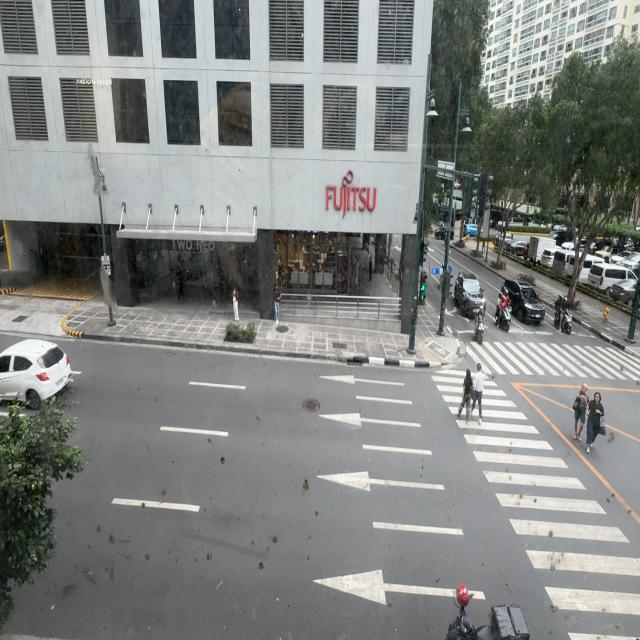crossing: (459, 370, 474, 422), (471, 365, 484, 421)
jaywalking: (584, 391, 604, 452), (573, 383, 589, 441)
pedestrain: (273, 283, 282, 324), (232, 287, 240, 325)
